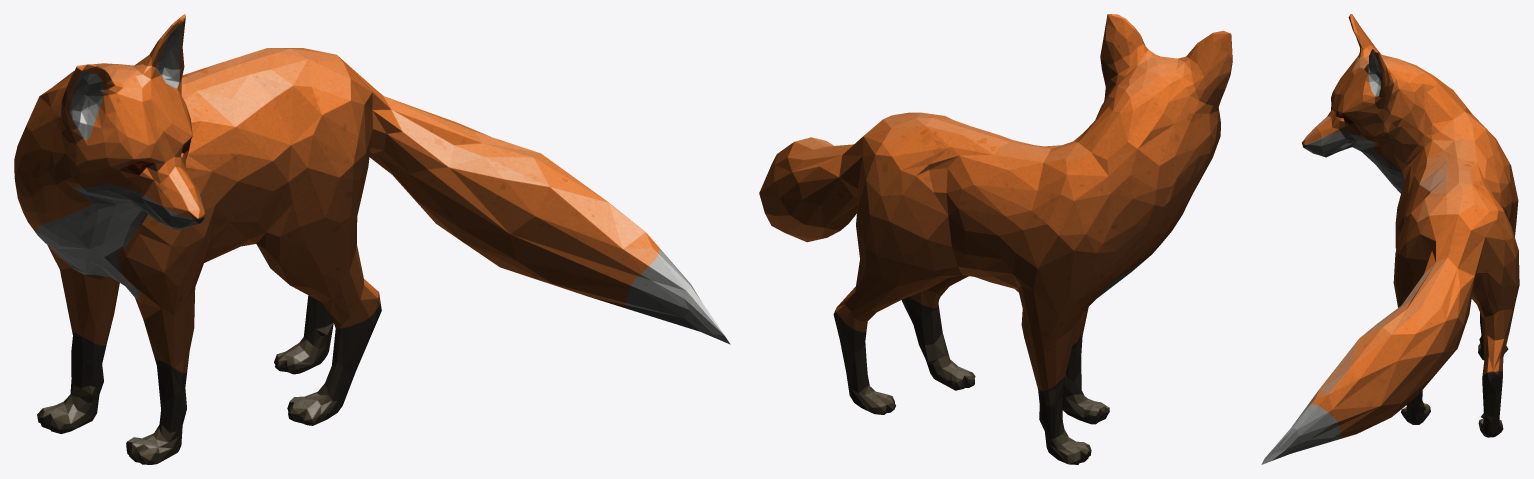
Rendered from Red-fox-low-poly.glb.
The picture shows the model from 3 angles, left to right: view 1: azimuth 30°, elevation 25°; view 2: azimuth 150°, elevation 25°; view 3: azimuth 270°, elevation 25°; orthographic projection. The views are drawn at different scales.
Parts seen in each view (by area): view 1: red_fox.1; view 2: red_fox.1; view 3: red_fox.1.
Boxes of the visible parts, x1=… form: red_fox.1: x1=14, y1=14, x2=730, y2=464; red_fox.1: x1=759, y1=14, x2=1232, y2=464; red_fox.1: x1=1261, y1=14, x2=1519, y2=464.
Size of the model in its own units: 1.35 by 1 by 0.7411.
1 material, 1 textured.
